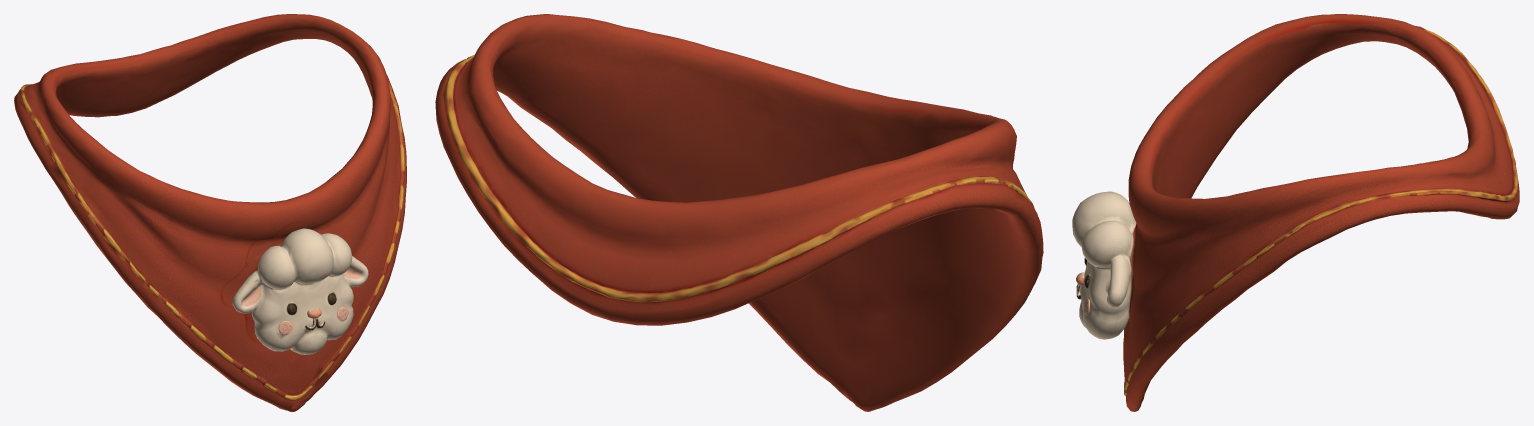
File: mem_ac_bandana.fbx
The picture shows the model from 3 angles, left to right: view 1: azimuth 30°, elevation 25°; view 2: azimuth 150°, elevation 25°; view 3: azimuth 270°, elevation 25°; orthographic projection. The views are drawn at different scales.
Parts seen in each view (by area): view 1: tripo_node_6acd2c7b; view 2: tripo_node_6acd2c7b; view 3: tripo_node_6acd2c7b.
Part boxes in pixels (x1,y1,x2,y2): tripo_node_6acd2c7b: [14, 14, 406, 411]; tripo_node_6acd2c7b: [435, 14, 1043, 411]; tripo_node_6acd2c7b: [1072, 14, 1519, 411].
Bounding box in the file's own units: 0.998 × 0.7715 × 0.9785.
